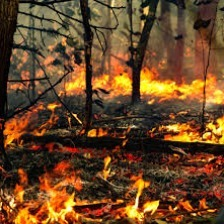incendio: (1, 48, 122, 174), (36, 173, 159, 214), (89, 64, 130, 112), (131, 57, 164, 106)
